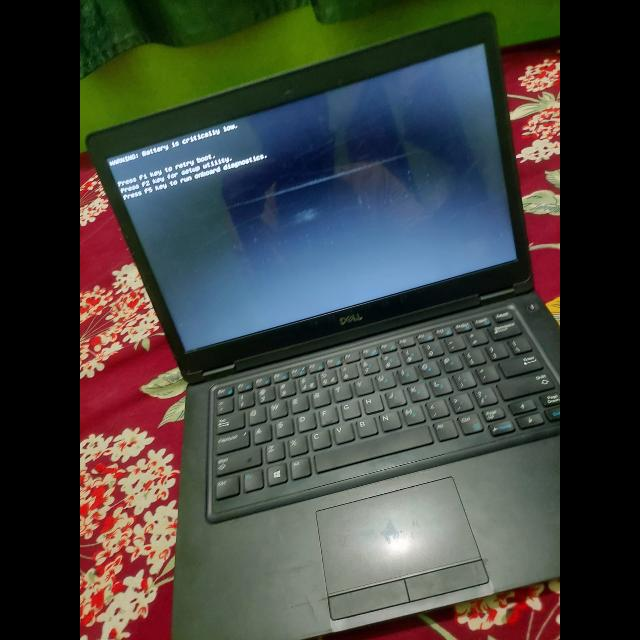laptop: (92, 16, 558, 640)
